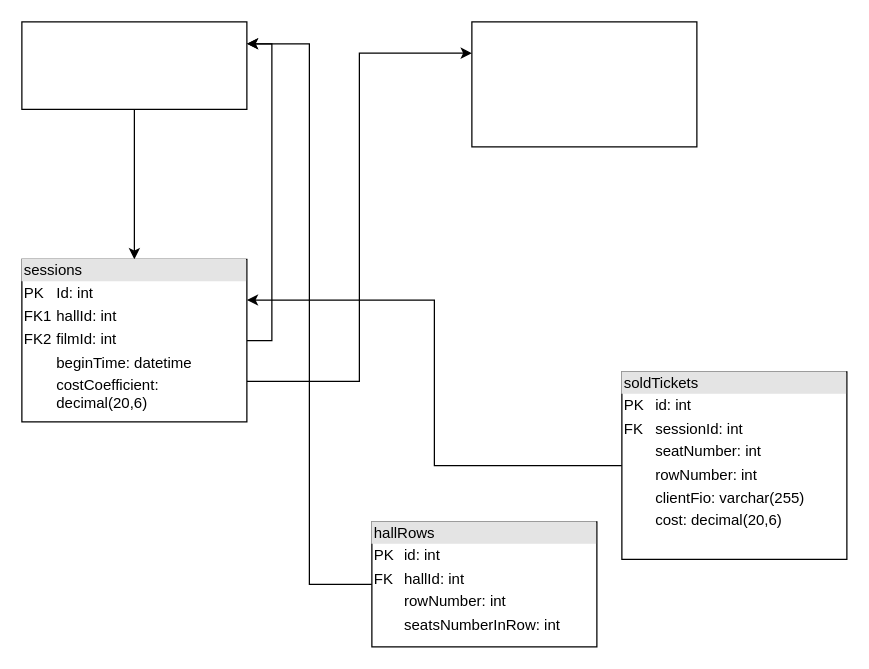
The diagram is 869 pixels wide and 669 high, and some of its shapes have lost their labels. The shapes that lost their labels are listed below. From the top down, each one's centre as x and y in pixels, then its label:
(x=134, y=65): halls PK id: int name: varchar(255)
(x=584, y=84): films PK id: int name: varchar(255) cost: decimal(20,6) duration: time
